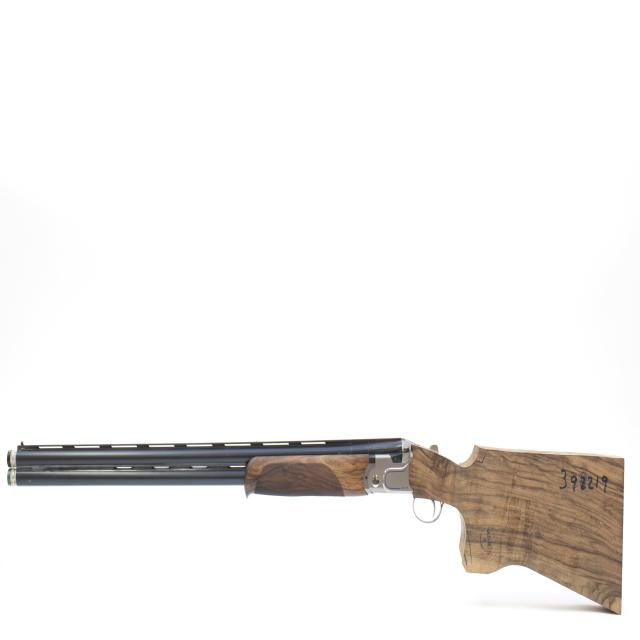ShotGun: (7, 439, 626, 614)
